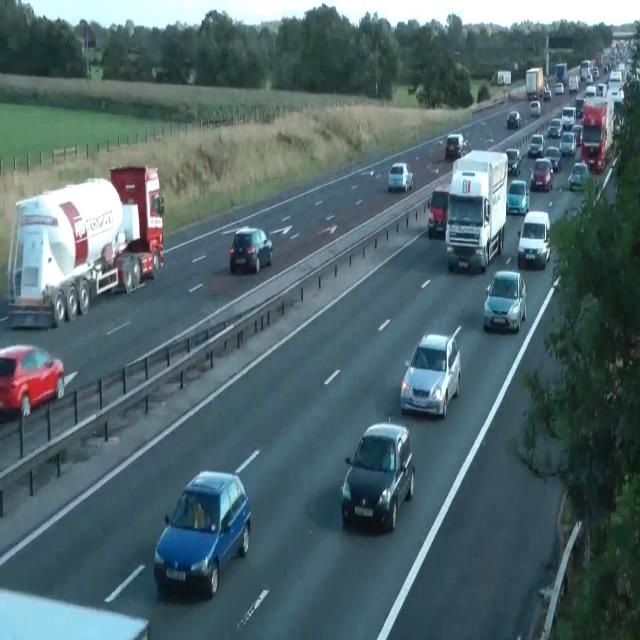bus: (153, 470, 251, 598), (341, 420, 415, 532), (0, 588, 150, 639), (399, 328, 461, 419), (0, 343, 64, 418), (483, 270, 527, 332), (229, 226, 273, 274), (428, 187, 450, 239), (506, 179, 530, 215), (388, 162, 412, 192), (568, 161, 590, 191), (445, 133, 467, 159), (559, 130, 577, 156), (505, 148, 521, 175), (545, 146, 561, 172), (527, 134, 544, 158), (560, 106, 576, 128), (547, 117, 563, 137), (507, 110, 521, 129), (571, 124, 583, 146), (575, 97, 585, 117), (529, 100, 541, 116), (596, 83, 608, 97), (541, 84, 551, 100), (569, 76, 579, 92), (585, 84, 595, 97), (555, 82, 563, 94)
jeep: (516, 210, 550, 269), (529, 157, 553, 191)
minibus: (6, 164, 164, 328), (445, 149, 507, 274), (580, 95, 614, 173), (526, 66, 544, 100), (490, 70, 511, 86), (555, 62, 568, 86)
